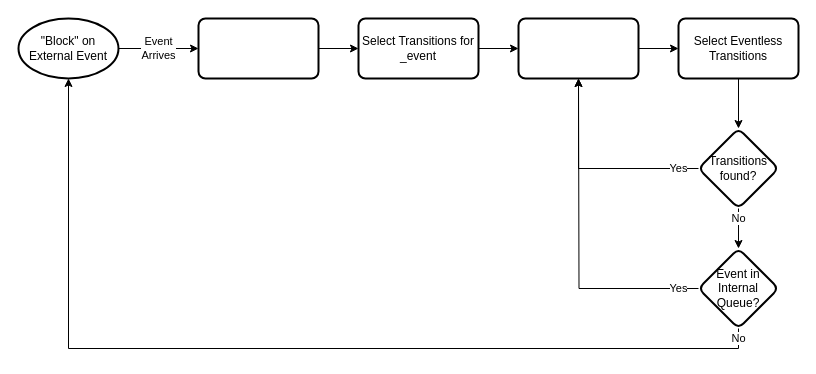
The diagram is 816 pixels wide and 374 high, and some of its shapes have lost their labels. Here are the shapes that lost their labels. From the top down, the centre of each, then its label:
At (x=258, y=48): "Set External Event to _event".
At (x=578, y=48): "Process Microstep".
